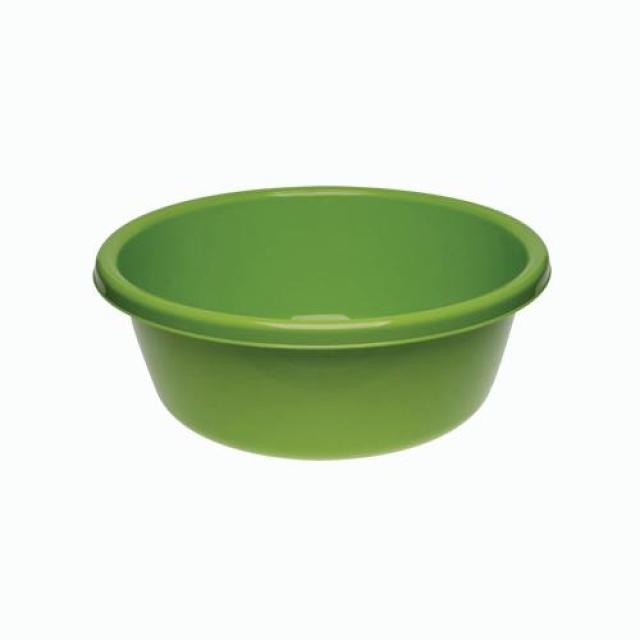Bowl: (88, 175, 553, 462)
